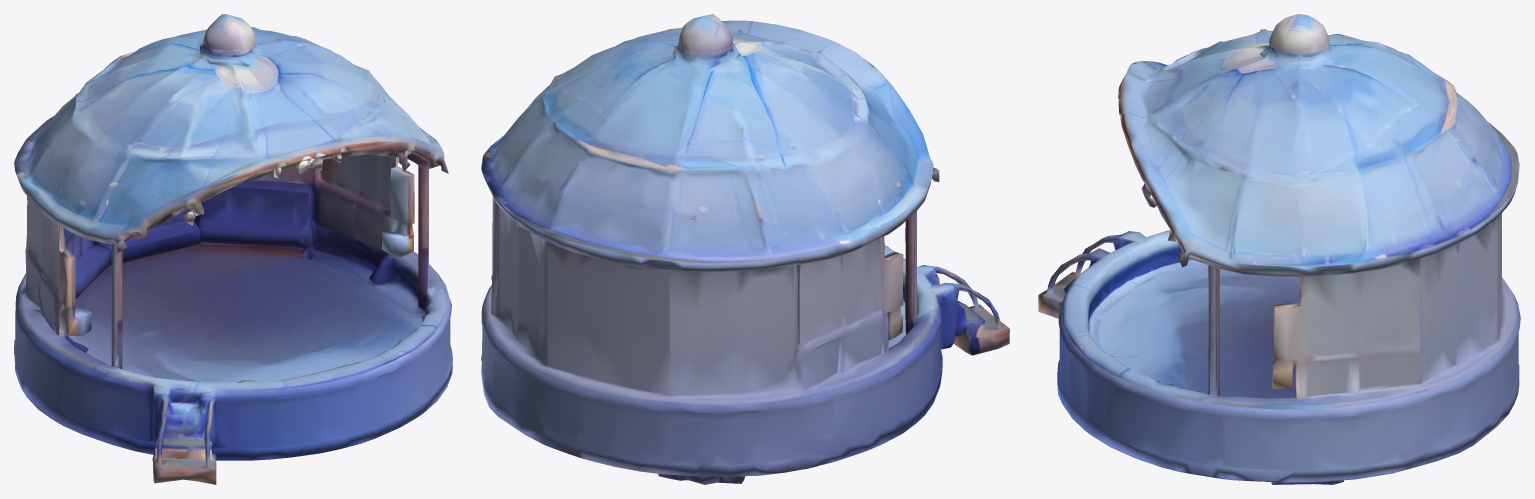
Rendered from music.glb.
The picture shows the model from 3 angles, left to right: view 1: azimuth 30°, elevation 25°; view 2: azimuth 150°, elevation 25°; view 3: azimuth 270°, elevation 25°; orthographic projection. The views are drawn at different scales.
Visible parts, largest first — view 1: tripo_node_6de25b26-fb9c-498a-865e-385749a2ae56; view 2: tripo_node_6de25b26-fb9c-498a-865e-385749a2ae56; view 3: tripo_node_6de25b26-fb9c-498a-865e-385749a2ae56.
Boxes of the visible parts, x1=… form: tripo_node_6de25b26-fb9c-498a-865e-385749a2ae56: x1=14, y1=14, x2=452, y2=484; tripo_node_6de25b26-fb9c-498a-865e-385749a2ae56: x1=481, y1=14, x2=1009, y2=484; tripo_node_6de25b26-fb9c-498a-865e-385749a2ae56: x1=1038, y1=14, x2=1520, y2=484.
Size of the model in its own units: 0.9219 by 1 by 0.9616.
Materials: 1 (1 with a texture image).
